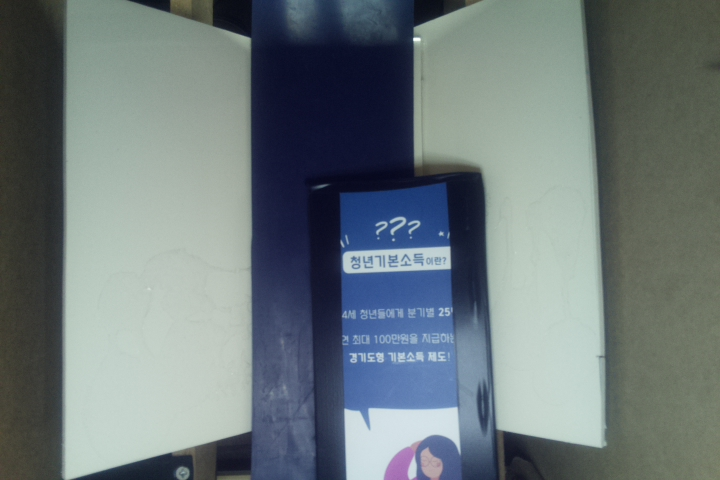book: (305, 173, 499, 480)
